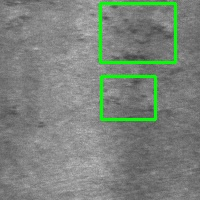rolled-in_scale: (100, 3, 175, 62), (101, 76, 155, 119), (1, 104, 48, 129)
